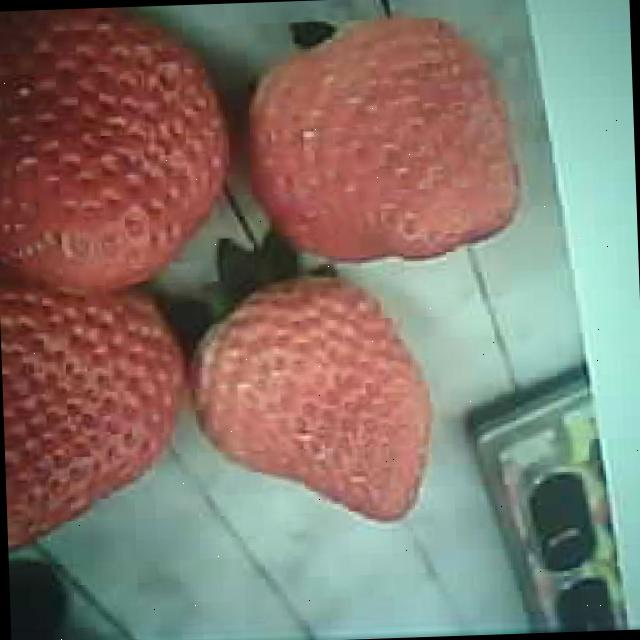strawberry: (246, 14, 522, 264), (190, 273, 437, 531)
